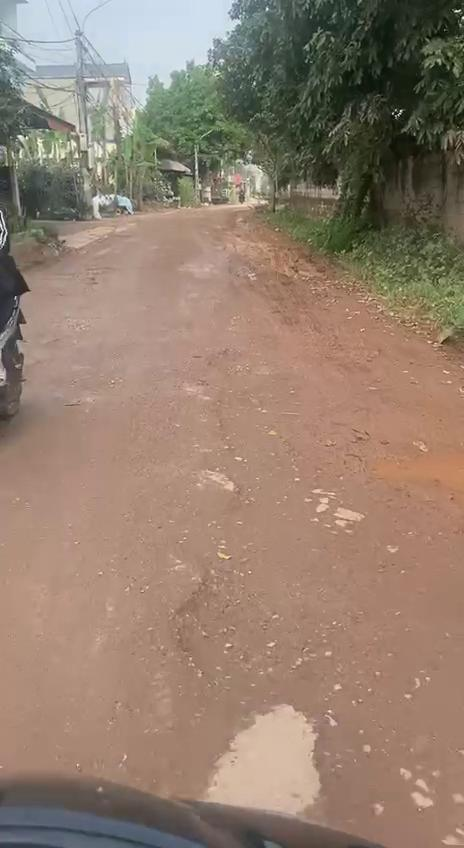pothole: (168, 570, 312, 688), (369, 445, 464, 514)
